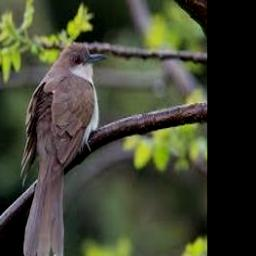Cuckoo: (19, 42, 106, 256)
